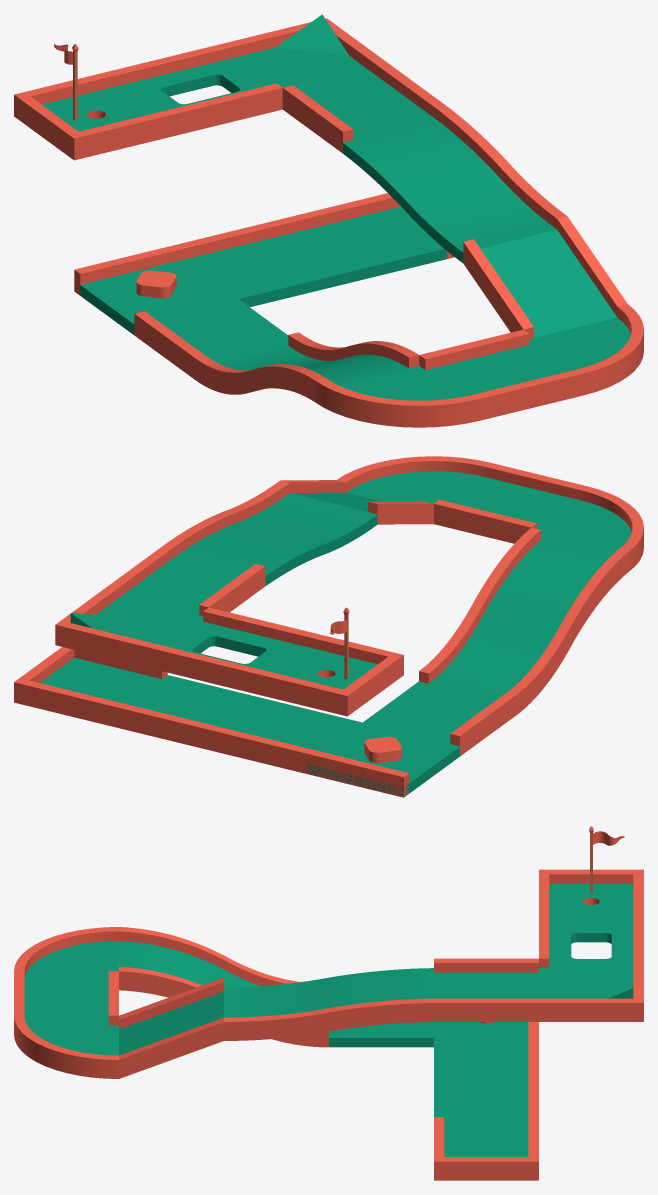
File: Level5.fbx
3 views of the same model, one above another, from view 1: azimuth 30°, elevation 25°; view 2: azimuth 150°, elevation 25°; view 3: azimuth 270°, elevation 25° (orthographic). The views are drawn at different scales.
Visible parts, largest first — view 1: side (×4), slope_side_smoothA_long, straight (×2), bend_open (×2), slope_straightB, end_hole, slope_smoothC_long, straight_hole, corner_hill, open_obstacle, detail_flag; view 2: side (×4), slope_smoothC_long, straight (×2), slope_side_smoothA_long, bend_open (×2), end_hole, end, corner_hill, straight_hole, open_obstacle, slope_straightB, detail_flag; view 3: side (×4), straight (×2), slope_side_smoothA_long, bend_open (×2), slope_smoothC_long, slope_straightB, end, corner_hill, end_hole, straight_hole, open_obstacle.
Boxes of the visible parts, left/top/right/bottom form: side (×4): left=74, top=193, right=447, bottom=379; slope_side_smoothA_long: left=343, top=106, right=566, bottom=262; straight (×2): left=282, top=62, right=583, bottom=420; bend_open (×2): left=315, top=304, right=643, bottom=427; slope_straightB: left=463, top=216, right=627, bottom=338; end_hole: left=14, top=69, right=178, bottom=160; slope_smoothC_long: left=194, top=332, right=419, bottom=401; straight_hole: left=118, top=43, right=282, bottom=134; corner_hill: left=223, top=14, right=386, bottom=93; open_obstacle: left=74, top=261, right=237, bottom=333; detail_flag: left=54, top=43, right=78, bottom=120; side (×4): left=111, top=675, right=516, bottom=797; slope_smoothC_long: left=419, top=527, right=628, bottom=714; straight (×2): left=112, top=462, right=587, bottom=615; slope_side_smoothA_long: left=168, top=480, right=377, bottom=585; bend_open (×2): left=337, top=456, right=643, bottom=571; end_hole: left=250, top=631, right=403, bottom=716; end: left=14, top=647, right=167, bottom=725; corner_hill: left=55, top=583, right=203, bottom=668; straight_hole: left=152, top=607, right=305, bottom=692; open_obstacle: left=306, top=723, right=459, bottom=796; slope_straightB: left=281, top=480, right=433, bottom=524; detail_flag: left=329, top=607, right=349, bottom=679; side (×4): left=329, top=1022, right=538, bottom=1126; straight (×2): left=14, top=958, right=538, bottom=1025; slope_side_smoothA_long: left=224, top=968, right=433, bottom=1040; bend_open (×2): left=14, top=927, right=118, bottom=1078; slope_smoothC_long: left=119, top=927, right=328, bottom=1047; slope_straightB: left=119, top=977, right=223, bottom=1078; end: left=434, top=1117, right=538, bottom=1180; corner_hill: left=539, top=958, right=643, bottom=1021; end_hole: left=539, top=869, right=643, bottom=923; straight_hole: left=539, top=914, right=643, bottom=967; open_obstacle: left=434, top=1022, right=528, bottom=1037.
Size of the model in its own units: 40 by 19.92 by 60.
